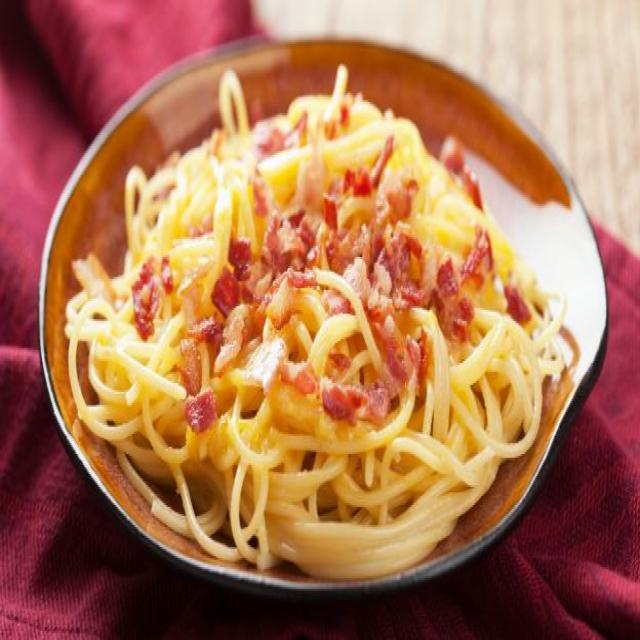Pasta with carbonara sauce: (71, 59, 560, 553)
